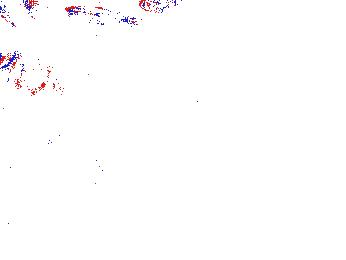X-ray fish: (1, 50, 52, 93), (66, 146, 109, 188)
red belly glassfish: (138, 1, 183, 14)
redtail glassfish: (65, 5, 138, 32), (1, 1, 34, 27)
